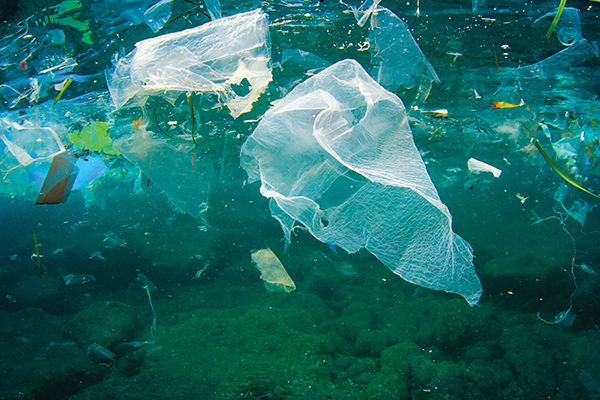Glass: (27, 146, 86, 210)
Plastic: (220, 54, 488, 306), (95, 25, 282, 104), (490, 59, 599, 166), (358, 2, 439, 100), (247, 244, 298, 295)
Straw: (21, 228, 58, 281), (533, 1, 570, 41), (49, 77, 78, 107)
